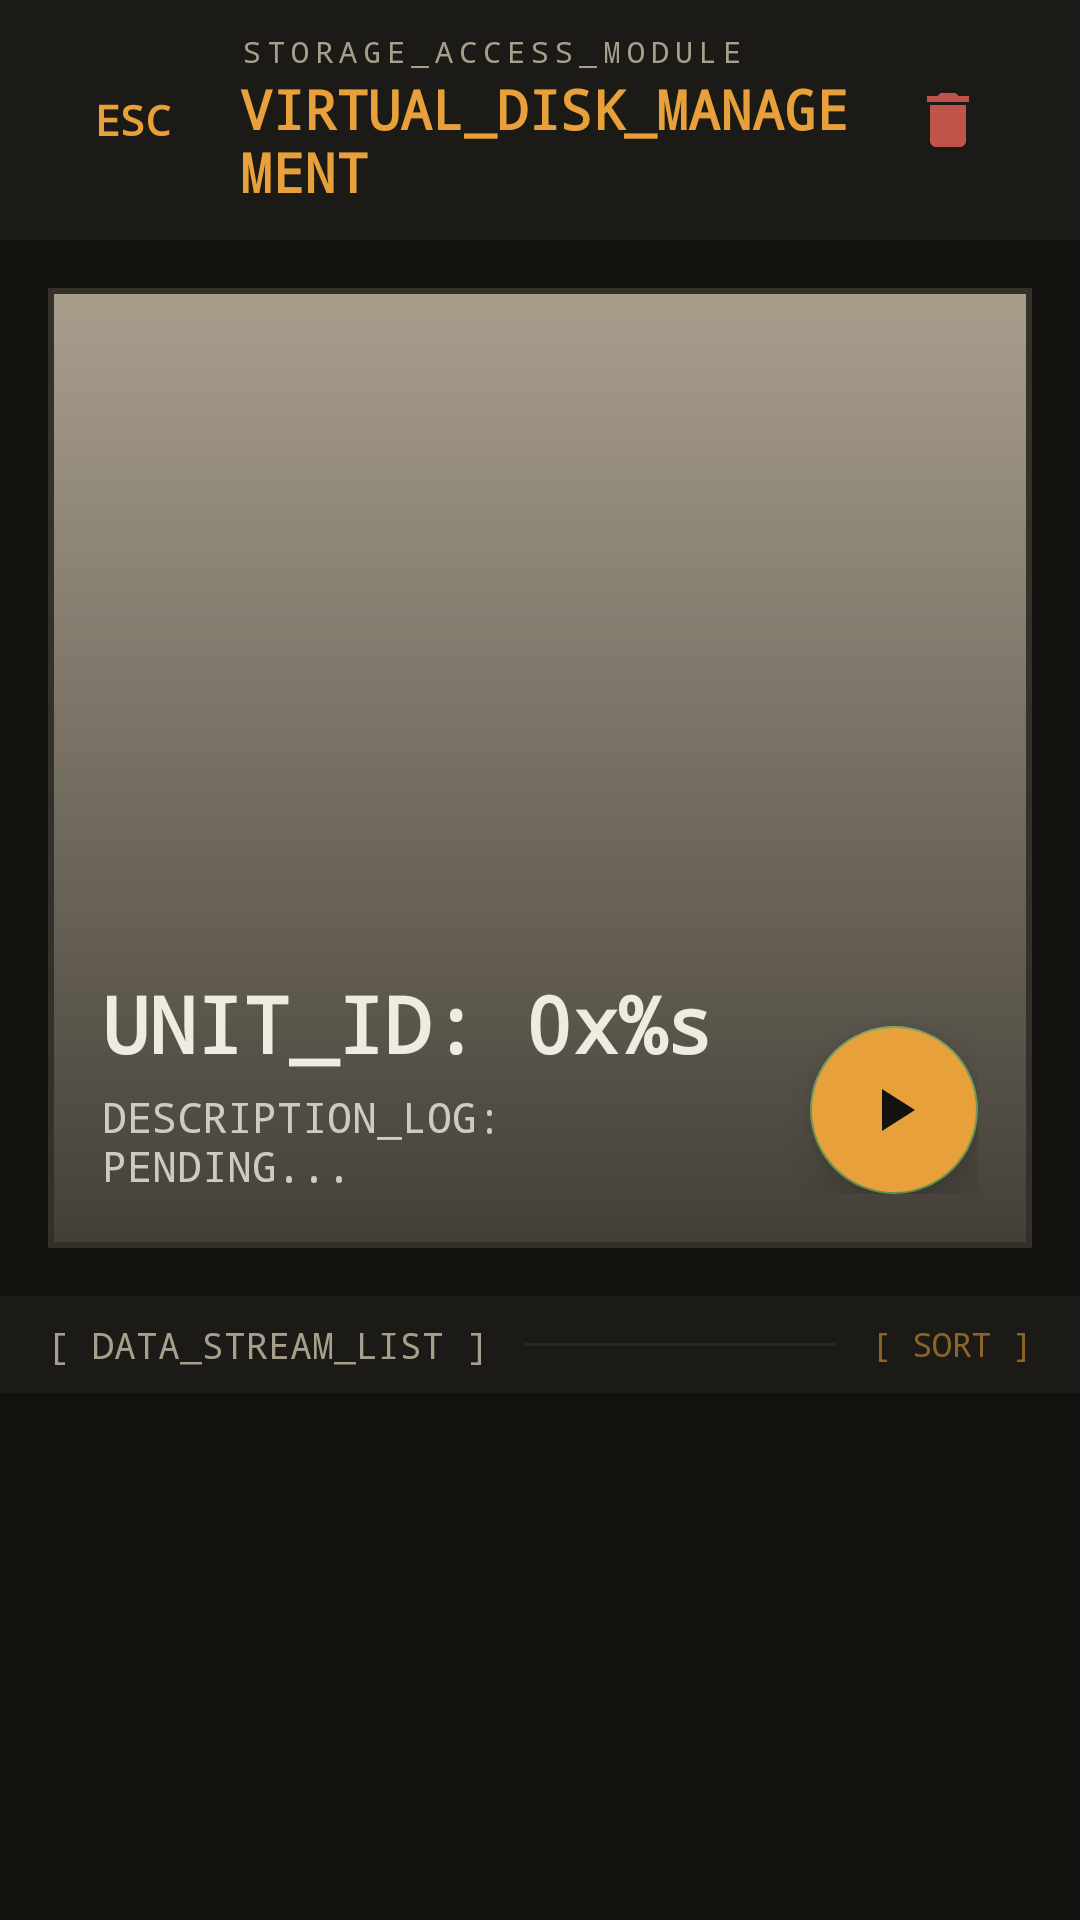

Icons on this 1080 x 1920 Android screen, each with its box as Rect(x1, y1, x2, y2):
delete: Rect(927, 93, 969, 147)
play: Rect(810, 1026, 978, 1194)
